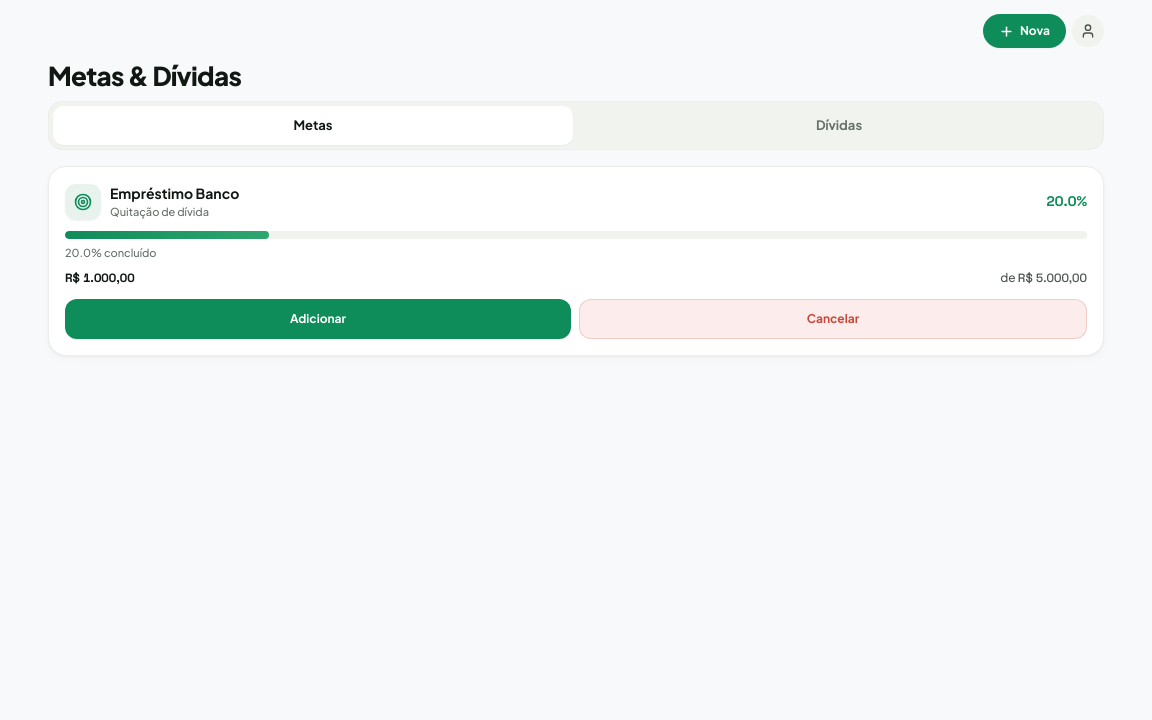
Test: GoalsPage › debt goals appear in Dívidas tab › clicking Cancelar on debt-goal opens confirm dialog
The width and height of the screenshot is (1152, 720).
Step 1. Click the button "Dívidas" → (839, 125), box [579,106,1099,145]
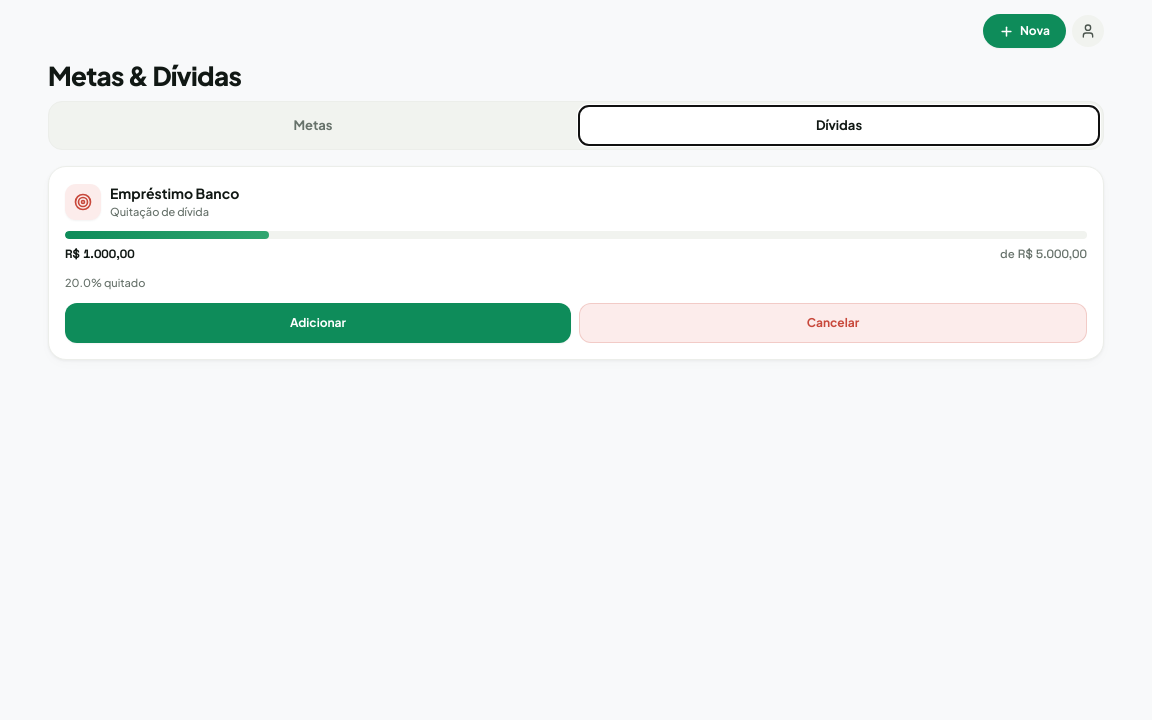
Step 2. Click the button "Cancelar" → (833, 323), box [579,303,1087,343]
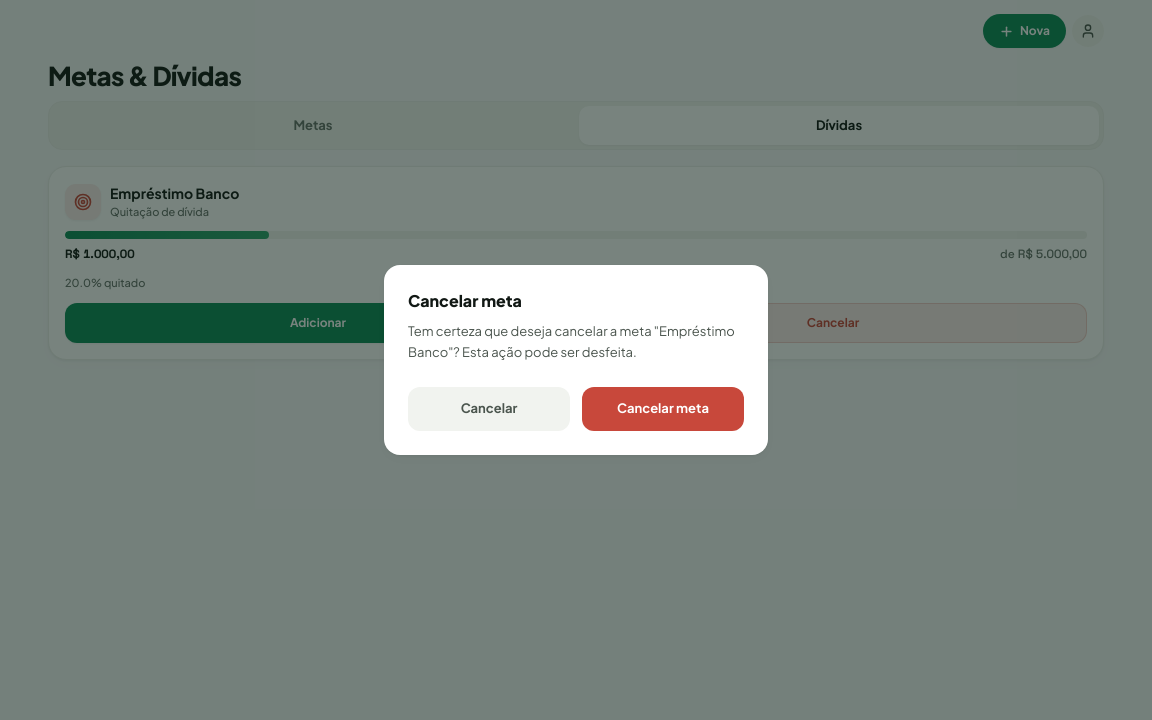
Check: the text "Tem certeza" is shown, box [408,323,735,360]
